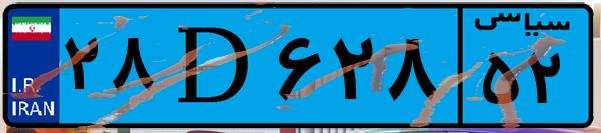2: (330, 28, 385, 110), (57, 26, 110, 100), (525, 38, 570, 115)
5: (475, 38, 525, 113)
6: (270, 28, 330, 110)
8: (385, 28, 445, 110), (110, 28, 158, 98)
D: (158, 12, 270, 120)
